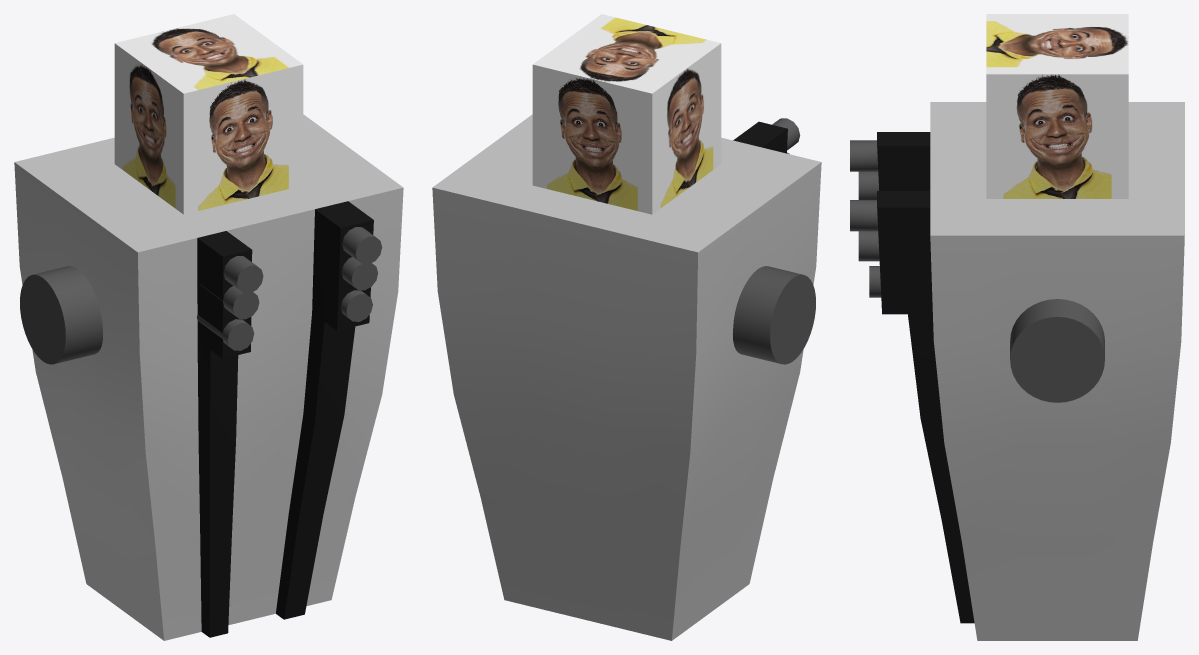
Rendered from B_SquareThingy.fbx.
The picture shows the model from 3 angles, left to right: view 1: azimuth 30°, elevation 25°; view 2: azimuth 150°, elevation 25°; view 3: azimuth 270°, elevation 25°; orthographic projection. The views are drawn at different scales.
Visible parts, largest first — view 1: Cube, Cube_1, Cylinder_2_2, Cylinder_2, Cylinder_1, Cylinder; view 2: Cube, Cube_1, Cylinder_2_2; view 3: Cube, Cube_1, Cylinder_2_2, Cylinder_2, Cylinder_1.
Boxes of the visible parts, box(x1,y1,x2,y2) form: Cube: box(14, 114, 403, 640); Cube_1: box(114, 14, 303, 214); Cylinder_2_2: box(20, 266, 103, 364); Cylinder_2: box(223, 227, 382, 293); Cylinder_1: box(199, 257, 377, 319); Cylinder: box(197, 290, 372, 350); Cube: box(432, 114, 821, 640); Cube_1: box(532, 14, 721, 214); Cylinder_2_2: box(732, 266, 815, 364); Cube: box(877, 102, 1184, 640); Cube_1: box(986, 14, 1128, 198); Cylinder_2_2: box(1010, 299, 1104, 402); Cylinder_2: box(850, 140, 878, 231); Cylinder_1: box(858, 171, 879, 261).
Size of the model in its own units: 250 by 387 by 212.
4 materials, 1 textured.
